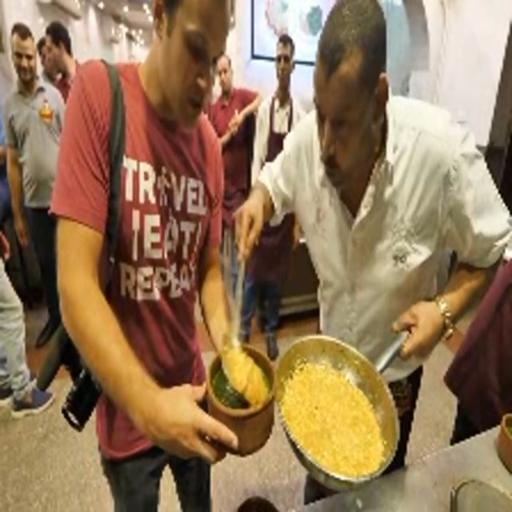nao-violencia: (52, 0, 511, 468)
